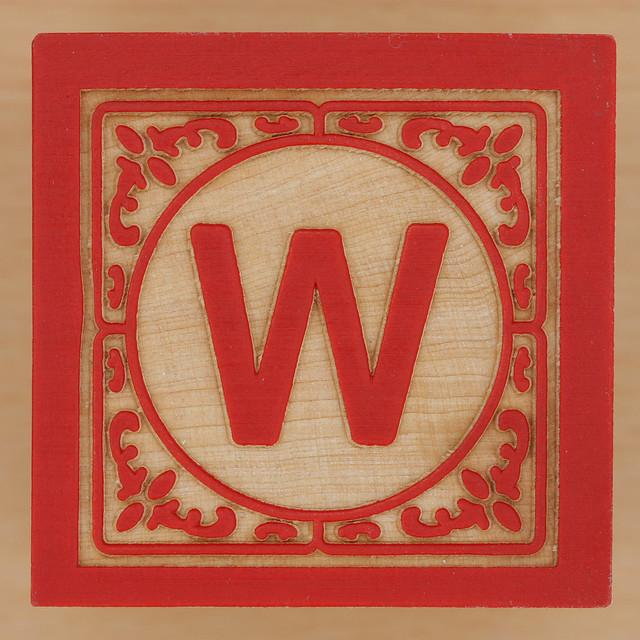W: (177, 202, 451, 455)
